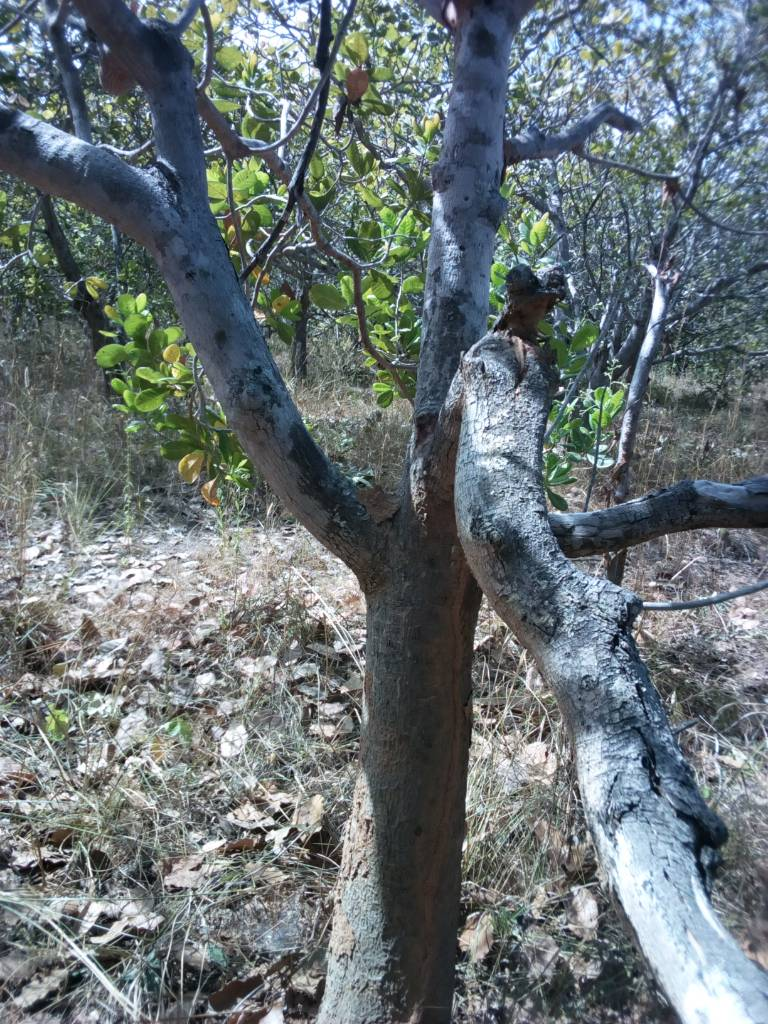Termites: (408, 599, 466, 1024)
